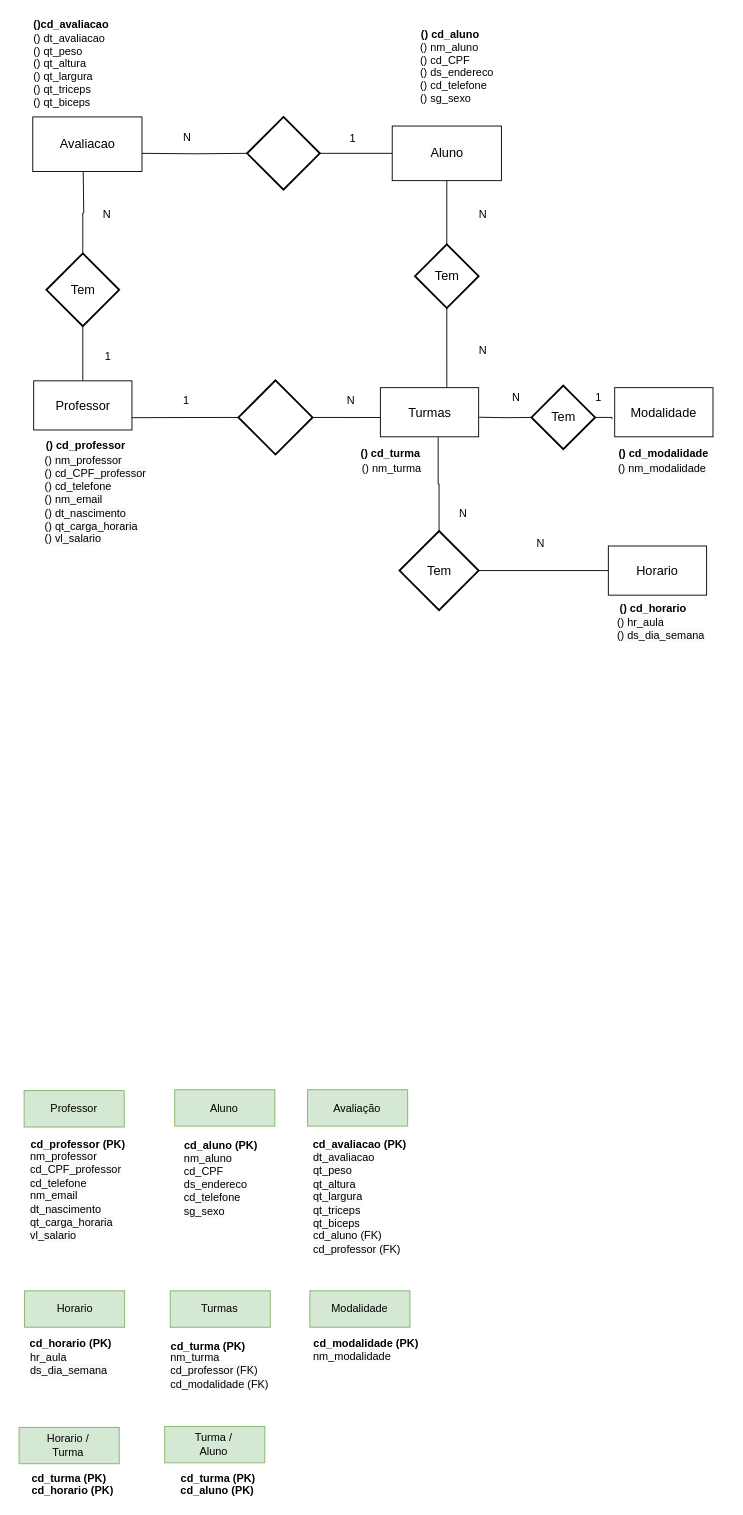
The diagram is 743 pixels wide and 1515 high, and some of its shapes have lost their labels. The shapes that lost their labels are listed below. From the top down, each one's box as (x1, y1, x2, y2) in pixels, then its label:
(246, 116, 320, 190): Avalia
(237, 379, 313, 455): Ensina
